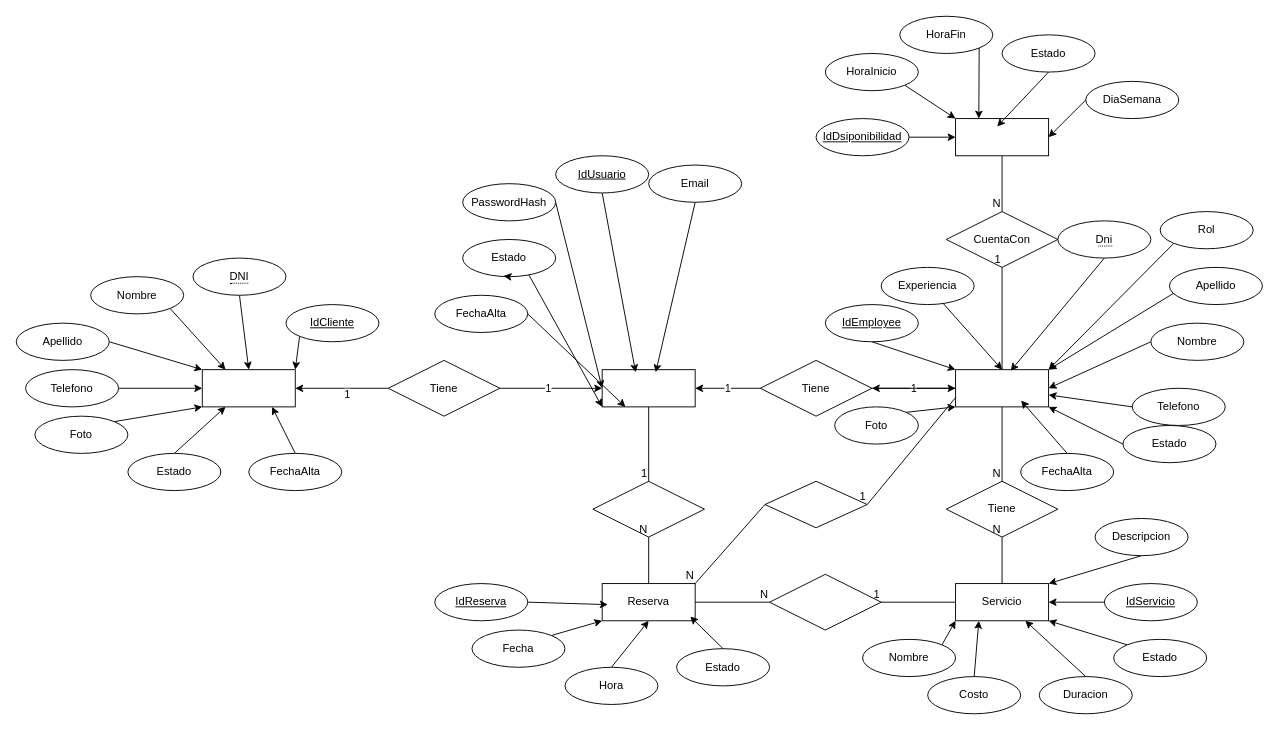
Image size: 1279x730. Some labels were removed from this diagram. Here are the shapes that lost their labels. From the top down, the centre of each, then its label:
[1002,137]: Disponibilidad
[248,388]: Cliente
[648,388]: Usuario
[1002,388]: Employee
[648,508]: Realiza
[815,504]: Opera
[825,601]: Contiene
